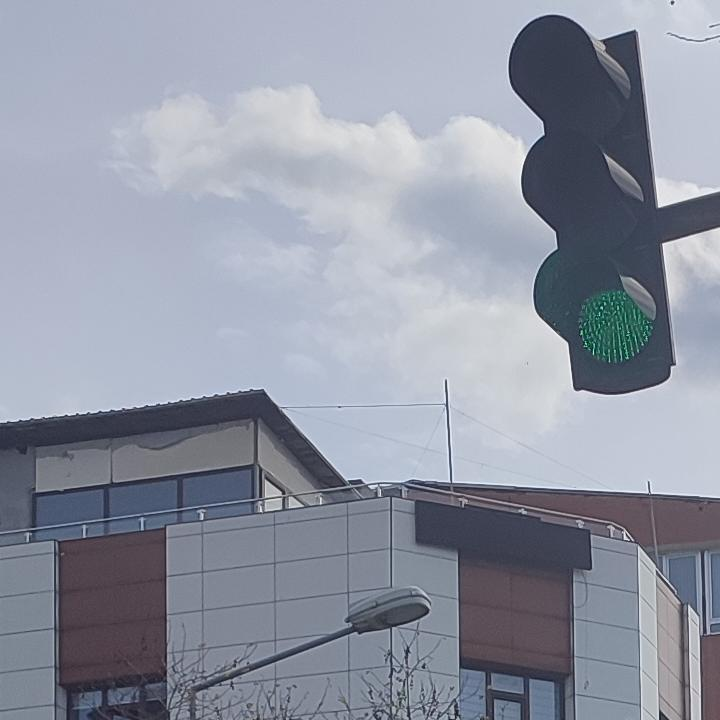green: (484, 14, 692, 397)
